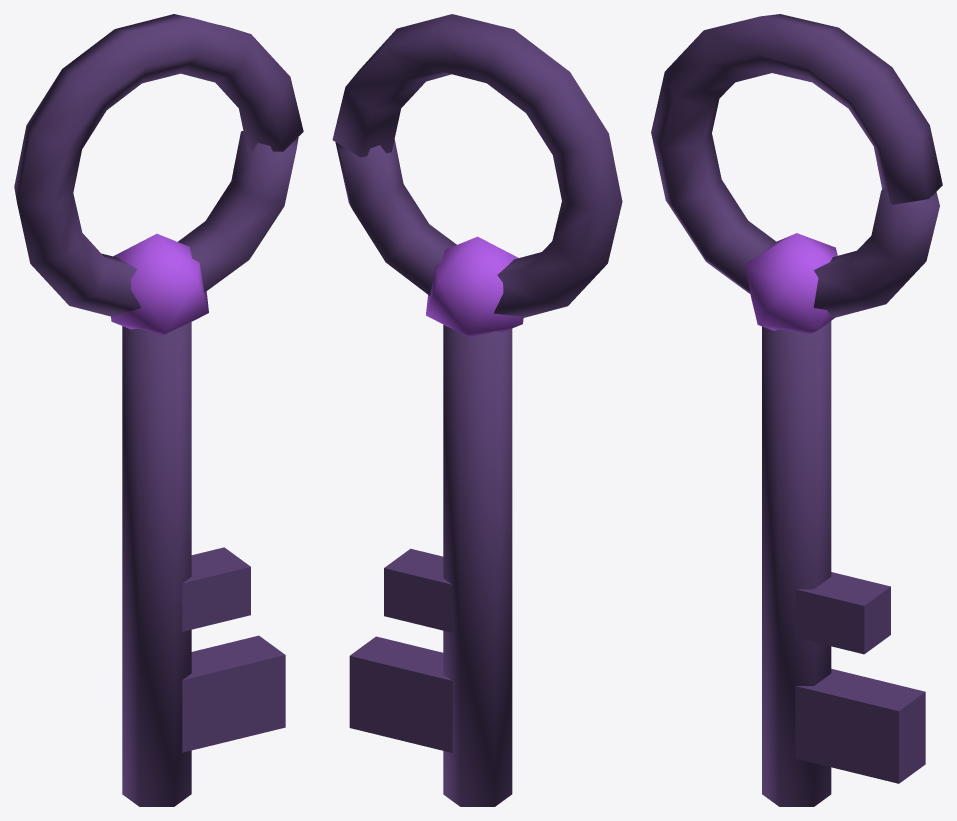
The model's file is corruption_key.glb.
The picture shows the model from 3 angles, left to right: view 1: azimuth 30°, elevation 25°; view 2: azimuth 150°, elevation 25°; view 3: azimuth 330°, elevation 25°; orthographic projection.
Parts seen in each view (by area): view 1: corruption_key_v0; view 2: corruption_key_v0; view 3: corruption_key_v0.
Boxes of the visible parts, x1=… form: corruption_key_v0: x1=14, y1=14, x2=303, y2=806; corruption_key_v0: x1=332, y1=14, x2=622, y2=806; corruption_key_v0: x1=651, y1=14, x2=942, y2=806.
Size of the model in its own units: 0.1235 by 0.3199 by 0.0374.
